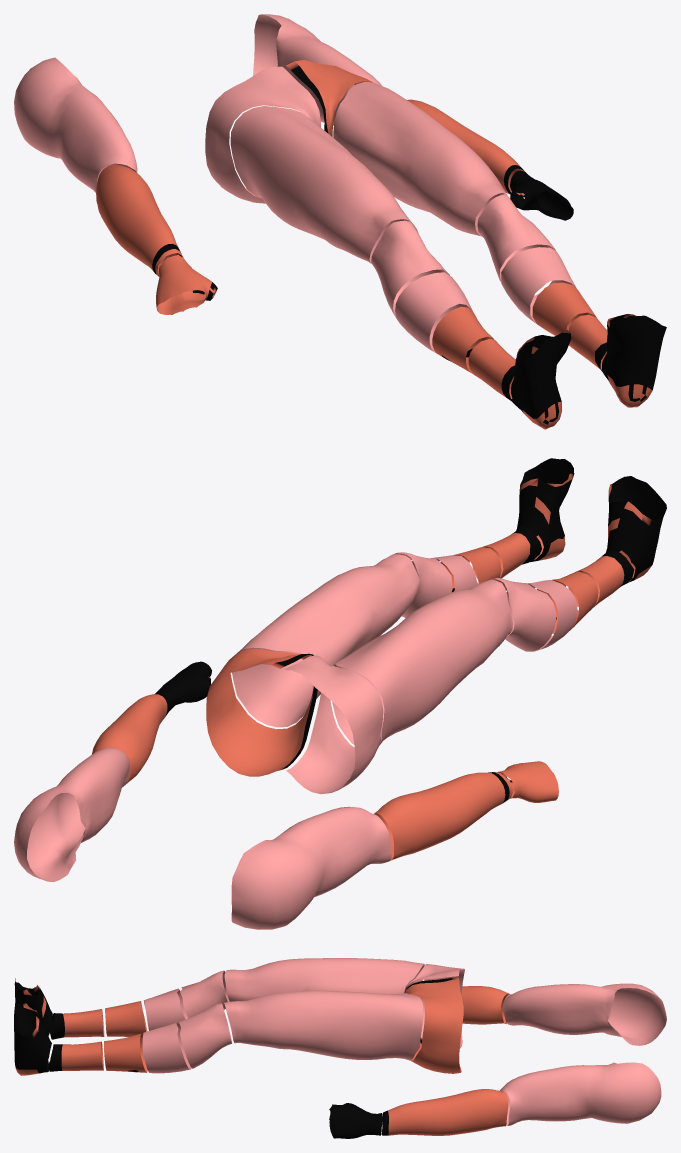
The model's file is ManCollider.fbx.
3 views of the same model, one above another, from view 1: azimuth 30°, elevation 25°; view 2: azimuth 150°, elevation 25°; view 3: azimuth 270°, elevation 25° (orthographic). The views are drawn at different scales.
Parts seen in each view (by area): view 1: ManRightLeg02, ManLeftLeg02, ManRightArmColiider1, ManRightLeg01, ManRightArmColiider, ManLeftLeg07, ManLeftArmColiider1, ManRightLeg07, ManRightLeg03, ManRightLeg04, polySurface03, polySurface04 (+8 smaller); view 2: ManLeftLeg02, ManRightLeg02, ManRightArmColiider1, ManLeftArmColiider1, ManRightLeg01, ManLeftLeg01, ManRightArmColiider, ManRightLeg07, ManLeftLeg07, ManLeftArmColiider, ManRightLeg03, ManRightArmColiider2 (+8 smaller); view 3: ManLeftLeg02, ManLeftArmColiider1, ManRightArmColiider1, ManRightLeg02, ManLeftArmColiider, ManLeftLeg01, polySurface03, ManLeftLeg07, polySurface04, ManRightArmColiider, ManLeftArmColiider2, polySurface06 (+7 smaller).
Part boxes in pixels (x1,y1,x2,y2): ManRightLeg02: (230, 106, 418, 263); ManLeftLeg02: (333, 81, 507, 236); ManRightArmColiider1: (14, 57, 137, 202); ManRightLeg01: (205, 66, 320, 203); ManRightArmColiider: (96, 164, 183, 276); ManLeftLeg07: (601, 314, 666, 407); ManLeftArmColiider1: (253, 14, 382, 125); ManRightLeg07: (511, 330, 571, 429); ManRightLeg03: (371, 220, 449, 318); ManRightLeg04: (395, 272, 472, 353); polySurface03: (477, 194, 555, 289); polySurface04: (501, 247, 576, 323); ManLeftLeg02: (232, 554, 419, 727); ManRightLeg02: (332, 579, 512, 745); ManRightArmColiider1: (231, 806, 391, 929); ManLeftArmColiider1: (14, 747, 130, 881); ManRightLeg01: (284, 655, 383, 794); ManLeftLeg01: (206, 649, 317, 776); ManRightArmColiider: (374, 772, 512, 860); ManRightLeg07: (606, 476, 666, 582); ManLeftLeg07: (516, 458, 574, 562); ManLeftArmColiider: (92, 693, 169, 783); ManRightLeg03: (490, 577, 555, 651); ManRightArmColiider2: (497, 761, 558, 802); ManLeftLeg02: (224, 990, 423, 1060); ManLeftArmColiider1: (500, 1062, 661, 1125); ManRightArmColiider1: (503, 983, 666, 1045); ManRightLeg02: (224, 958, 424, 1001); ManLeftArmColiider: (381, 1089, 508, 1135); ManLeftLeg01: (404, 977, 463, 1073); polySurface03: (179, 1003, 232, 1068); ManLeftLeg07: (14, 1003, 51, 1075); polySurface04: (142, 1022, 191, 1073); ManRightArmColiider: (420, 986, 509, 1024); ManLeftArmColiider2: (329, 1103, 382, 1138); polySurface06: (48, 1041, 103, 1071).
Size of what is drawn, in the model's own units: 78.71 by 27.94 by 157.
